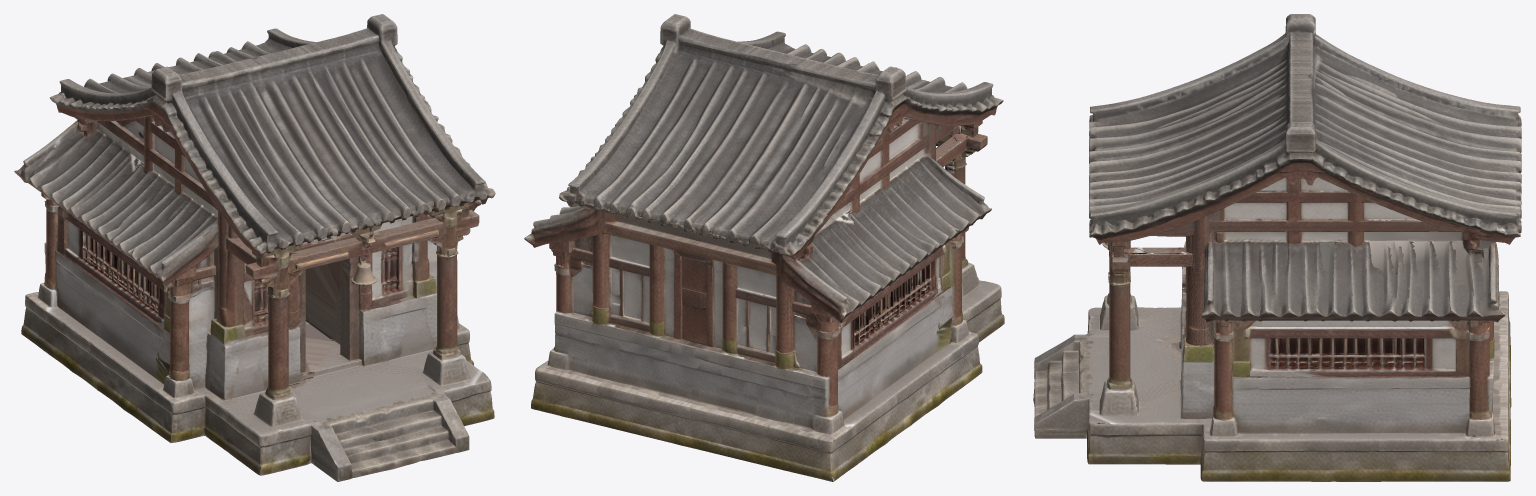
File: base_basic_pbr.glb
3 views of the same model, side by side, from view 1: azimuth 30°, elevation 25°; view 2: azimuth 150°, elevation 25°; view 3: azimuth 270°, elevation 25° (orthographic). The views are drawn at different scales.
Visible parts, largest first — view 1: model; view 2: model; view 3: model.
Part boxes in pixels (left/top/right/bottom): model: left=14, top=14, right=495, bottom=481; model: left=524, top=14, right=1004, bottom=481; model: left=1033, top=14, right=1521, bottom=481.
Bounding box in the file's own units: 1.48 × 1.44 × 1.9.
Materials: 1 (1 with a texture image).
